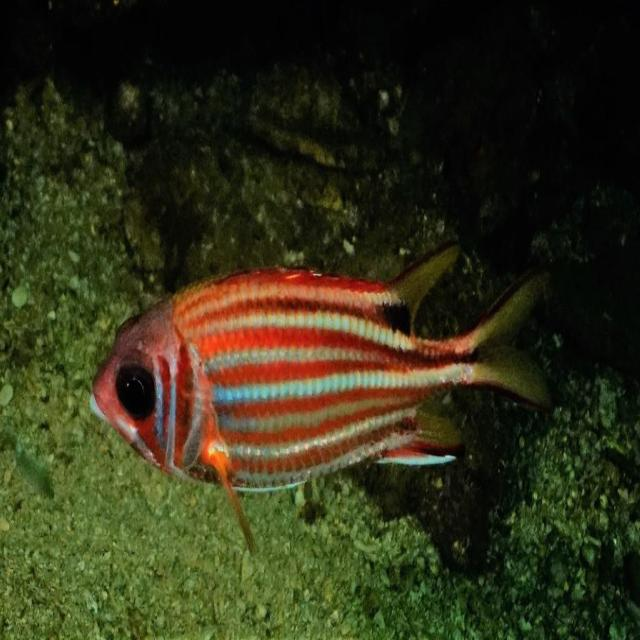Asker Baligi: (81, 220, 561, 568)
